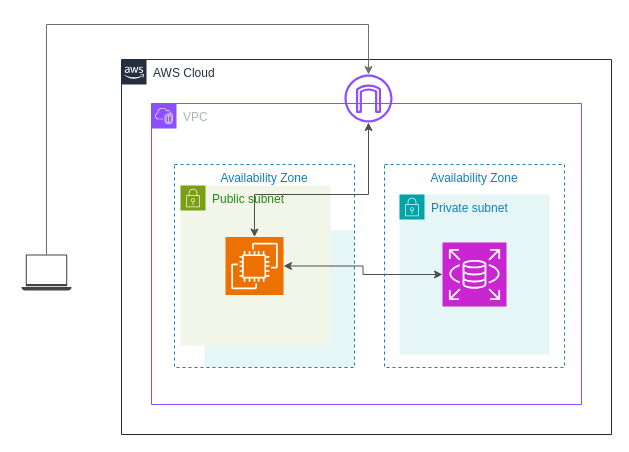
This 629x452 diagram has some shape labels left out. Each missing label, with the centre of its shape:
API Server: the point at 254,265
Application: the point at 46,272
PostgreSQL DB: the point at 474,274
